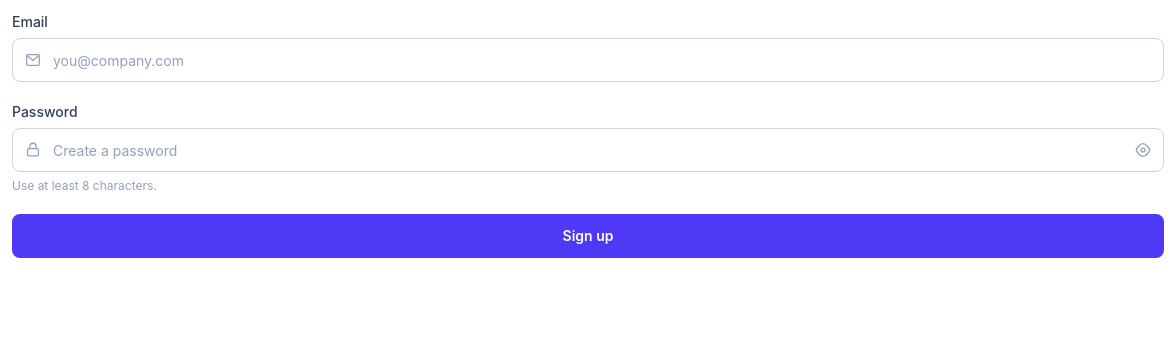
it: SignupForm › shows the specific error message on failure (US-001 — unlike login, this is not generic)
The image size is (1176, 337).
Type "dup@example.com" into the field labelled "Email".
click(588, 60); type("dup@example.com")  # box [12,38,1164,82]
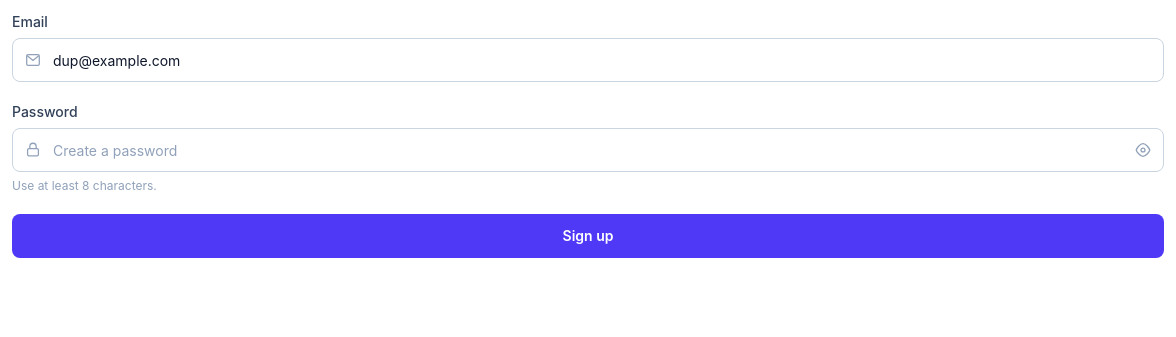
Type "secret123" into the password field labelled "Password".
click(588, 150); type("secret123")  # box [12,128,1164,172]
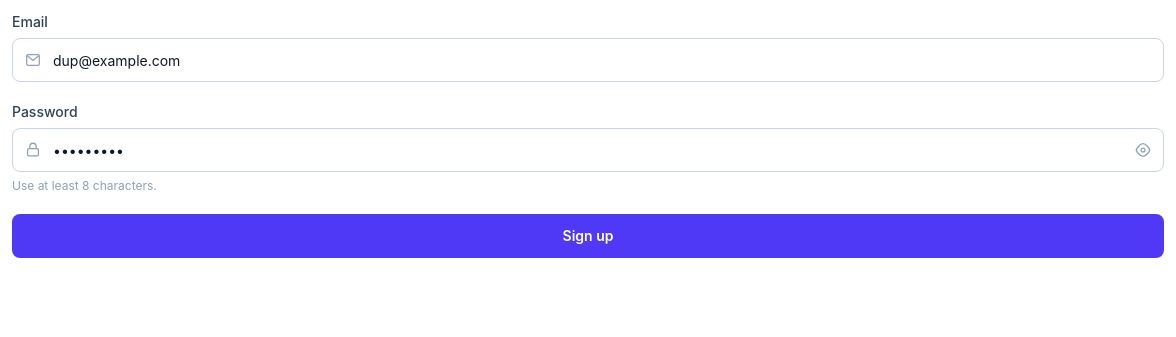
Click the button "Sign up".
click(588, 236)  # box [12,214,1164,258]
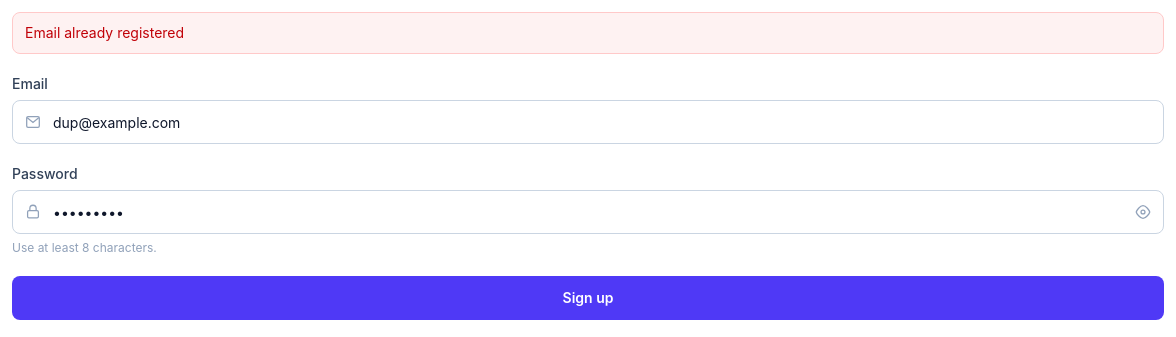
expect the message reads "Email already registered": met, box [25,24,184,41]
